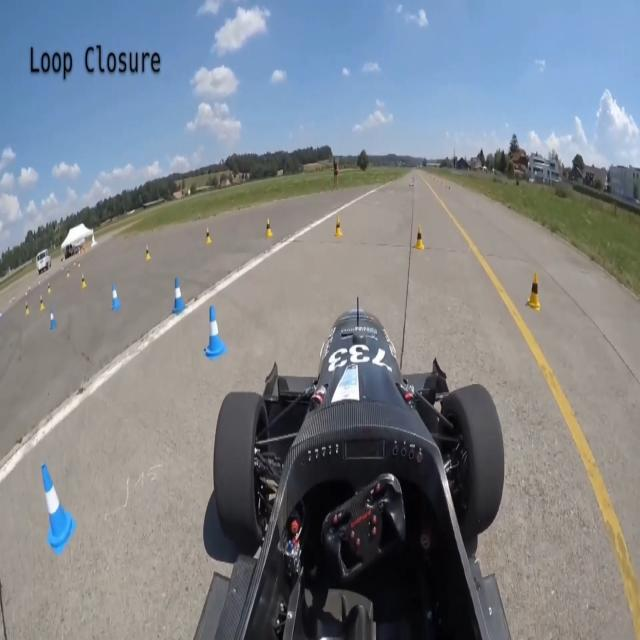blue_cone: (41, 447, 73, 553), (203, 301, 229, 364), (172, 272, 186, 315), (111, 280, 121, 313), (48, 307, 56, 332)
yellow_cone: (525, 270, 545, 310), (413, 222, 427, 251), (332, 214, 344, 241), (204, 226, 214, 246), (264, 218, 272, 240), (145, 244, 151, 262), (46, 278, 52, 296), (24, 300, 30, 316), (65, 266, 71, 279), (82, 272, 86, 289), (40, 295, 44, 312)
